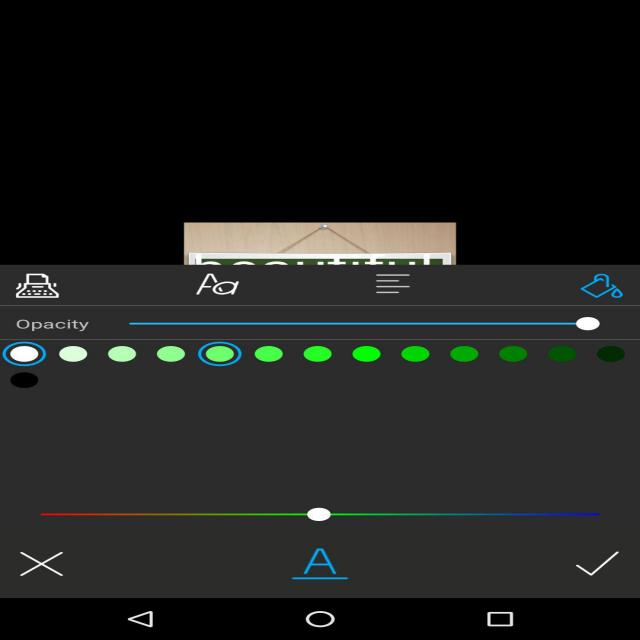icon: (0, 341, 631, 366), (37, 502, 618, 528), (127, 314, 616, 334), (177, 267, 272, 307), (556, 545, 636, 584), (3, 545, 76, 584), (572, 268, 634, 303), (112, 600, 171, 634), (360, 267, 419, 300), (14, 268, 65, 305), (463, 609, 525, 634), (287, 606, 339, 631), (1, 370, 45, 395)
image: (169, 217, 466, 267)
text: (282, 551, 352, 584), (0, 314, 97, 336), (192, 271, 254, 302)
